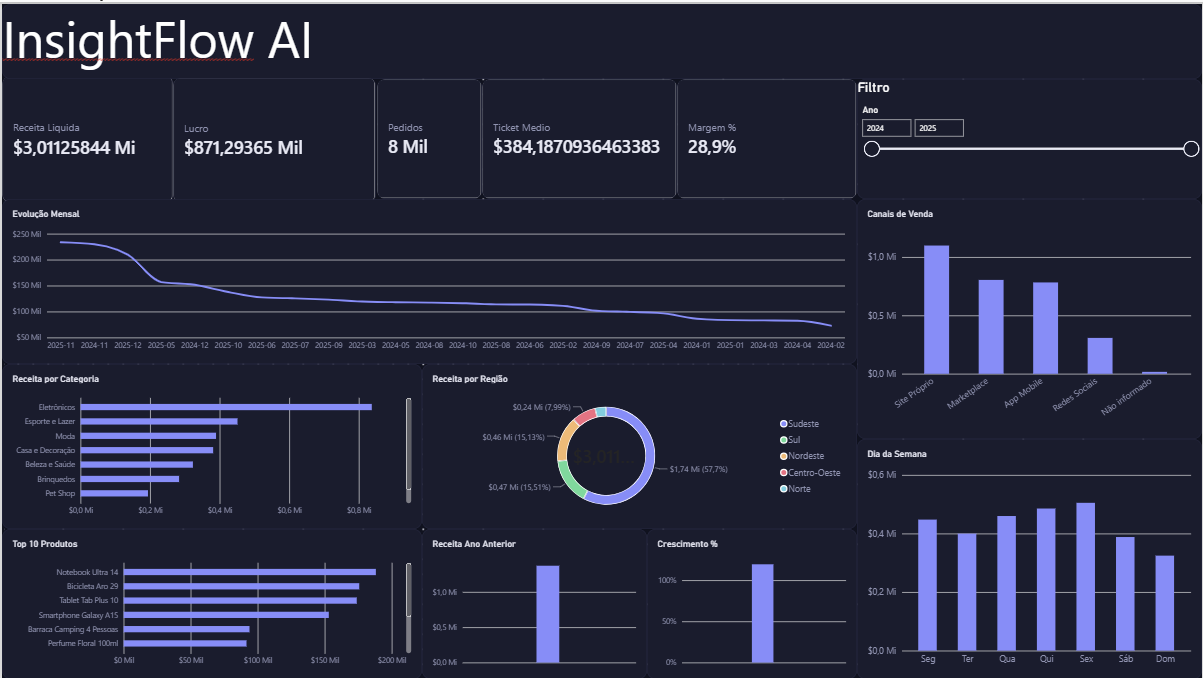

What the dashboard file says about the page in this screenshot:
{"tool":"powerbi","page":{"name":"Página 1","canvas":[1920,1080],"ordinal":0},"visuals":[{"type":"cardVisual","fields":{"Data":["Medidas.Receita Liquida"]},"box":[0,115,274.4,202.8],"z":0},{"type":"cardVisual","fields":{"Data":["Medidas.Pedidos"]},"box":[599.3,120,168,192],"z":1000},{"type":"cardVisual","fields":{"Data":["Medidas.Margem %"]},"box":[1079.8,120,288,192],"z":2000},{"type":"cardVisual","fields":{"Data":["Medidas.Lucro"]},"box":[274.6,117.5,324.5,200.4],"z":3000},{"type":"cardVisual","fields":{"Data":["Medidas.Ticket Medio"]},"box":[767.5,120,312,192],"z":4000},{"type":"slicer","title":"Filtro ","fields":{"Values":["Calendario.Ano"]},"box":[1368,120,552,192],"z":5000},{"type":"clusteredColumnChart","fields":{"Y":["Medidas.Crescimento %"]},"box":[1032,840,336,240],"z":6000},{"type":"clusteredColumnChart","fields":{"Y":["Medidas.Receita Ano Anterior"]},"box":[672,840,360,240],"z":7000},{"type":"lineChart","title":"Evolução Mensal","fields":{"Category":["Calendario.AnoMes"],"Y":["Medidas.Receita Liquida"]},"box":[0,312,1368,264],"z":8000},{"type":"barChart","title":"Receita por Categoria","fields":{"Category":["vendas_clean.category"],"Y":["Medidas.Receita Liquida"]},"box":[0,576,672,264],"z":9000},{"type":"donutChart","title":"Receita por Região","fields":{"Category":["vendas_clean.region"],"Y":["Medidas.Receita Liquida"]},"box":[672,576,696,264],"z":10000},{"type":"barChart","title":"Top 10 Produtos","fields":{"Category":["vendas_clean.product_name"],"Y":["Medidas.Receita Liquida"]},"box":[0,840,672,240],"z":11000},{"type":"columnChart","title":"Canais de Venda","fields":{"Category":["vendas_clean.channel"],"Y":["Medidas.Receita Liquida"]},"box":[1368,312,552,384],"z":12000},{"type":"columnChart","title":"Dia da Semana","fields":{"Category":["Calendario.DiaSemana"],"Y":["Medidas.Receita Liquida"]},"box":[1368,696,552,384],"z":13000},{"type":"textbox","box":[0,0,1920,120],"z":14000}]}

Visuals, with their boxes in screenshot pixels (x1, y1, x2, y2), scaled from the page's 1920x1080 canvas onto the 1203x678 screenshot:
cardVisual - Medidas.Receita Liquida: left=0, top=72, right=172, bottom=200
cardVisual - Medidas.Pedidos: left=375, top=75, right=481, bottom=196
cardVisual - Medidas.Margem %: left=677, top=75, right=857, bottom=196
cardVisual - Medidas.Lucro: left=172, top=74, right=375, bottom=200
cardVisual - Medidas.Ticket Medio: left=481, top=75, right=676, bottom=196
"Filtro " slicer: left=857, top=75, right=1202, bottom=196
clusteredColumnChart - Medidas.Crescimento %: left=647, top=527, right=857, bottom=677
clusteredColumnChart - Medidas.Receita Ano Anterior: left=421, top=527, right=647, bottom=677
"Evolução Mensal" lineChart: left=0, top=196, right=857, bottom=362
"Receita por Categoria" barChart: left=0, top=362, right=421, bottom=527
"Receita por Região" donutChart: left=421, top=362, right=857, bottom=527
"Top 10 Produtos" barChart: left=0, top=527, right=421, bottom=677
"Canais de Venda" columnChart: left=857, top=196, right=1202, bottom=437
"Dia da Semana" columnChart: left=857, top=437, right=1202, bottom=677
textbox: left=0, top=0, right=1202, bottom=75
